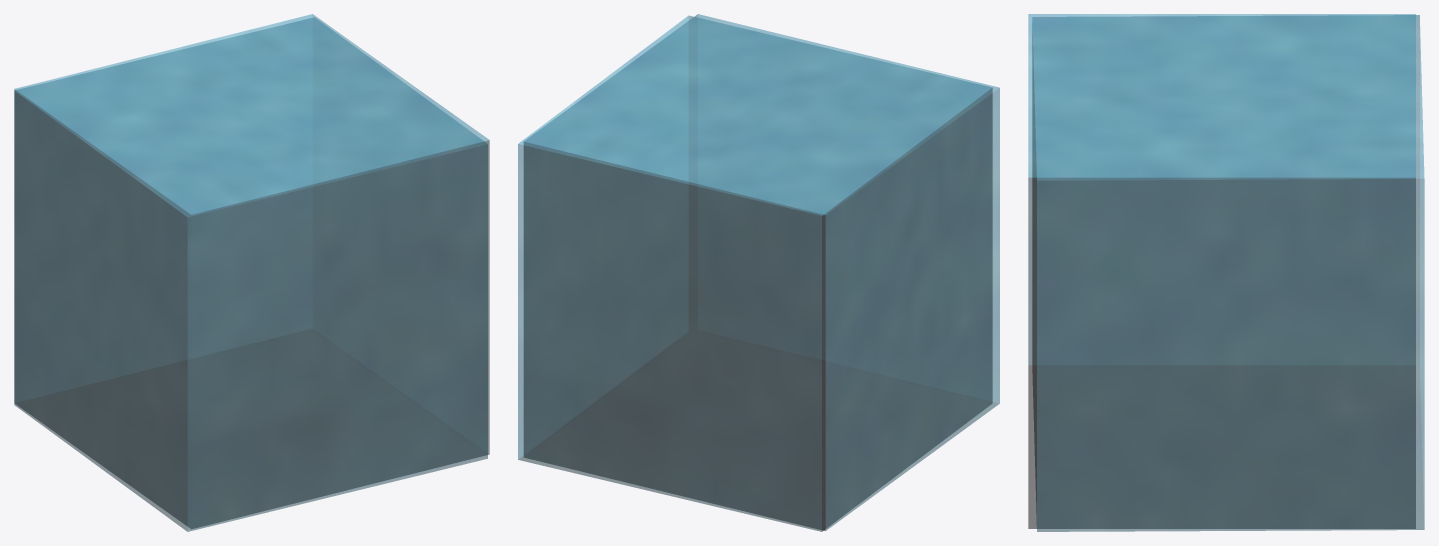
File: water_alpha.glb
3 views of the same model, side by side, from view 1: azimuth 30°, elevation 25°; view 2: azimuth 150°, elevation 25°; view 3: azimuth 270°, elevation 25° (orthographic). The views are drawn at different scales.
Visible parts, largest first — view 1: Object002_Object002_mtl_0003 (×2); view 2: Object002_Object002_mtl_0003 (×2); view 3: Object002_Object002_mtl_0003 (×2).
Boxes of the visible parts, x1,y1,x2,y2 form: Object002_Object002_mtl_0003 (×2): (14,14,489,531); Object002_Object002_mtl_0003 (×2): (518,14,999,531); Object002_Object002_mtl_0003 (×2): (1028,14,1424,531).
Size of the model in its own units: 0.384 by 0.3771 by 0.3854.
Materials: 1 (1 with a texture image).
